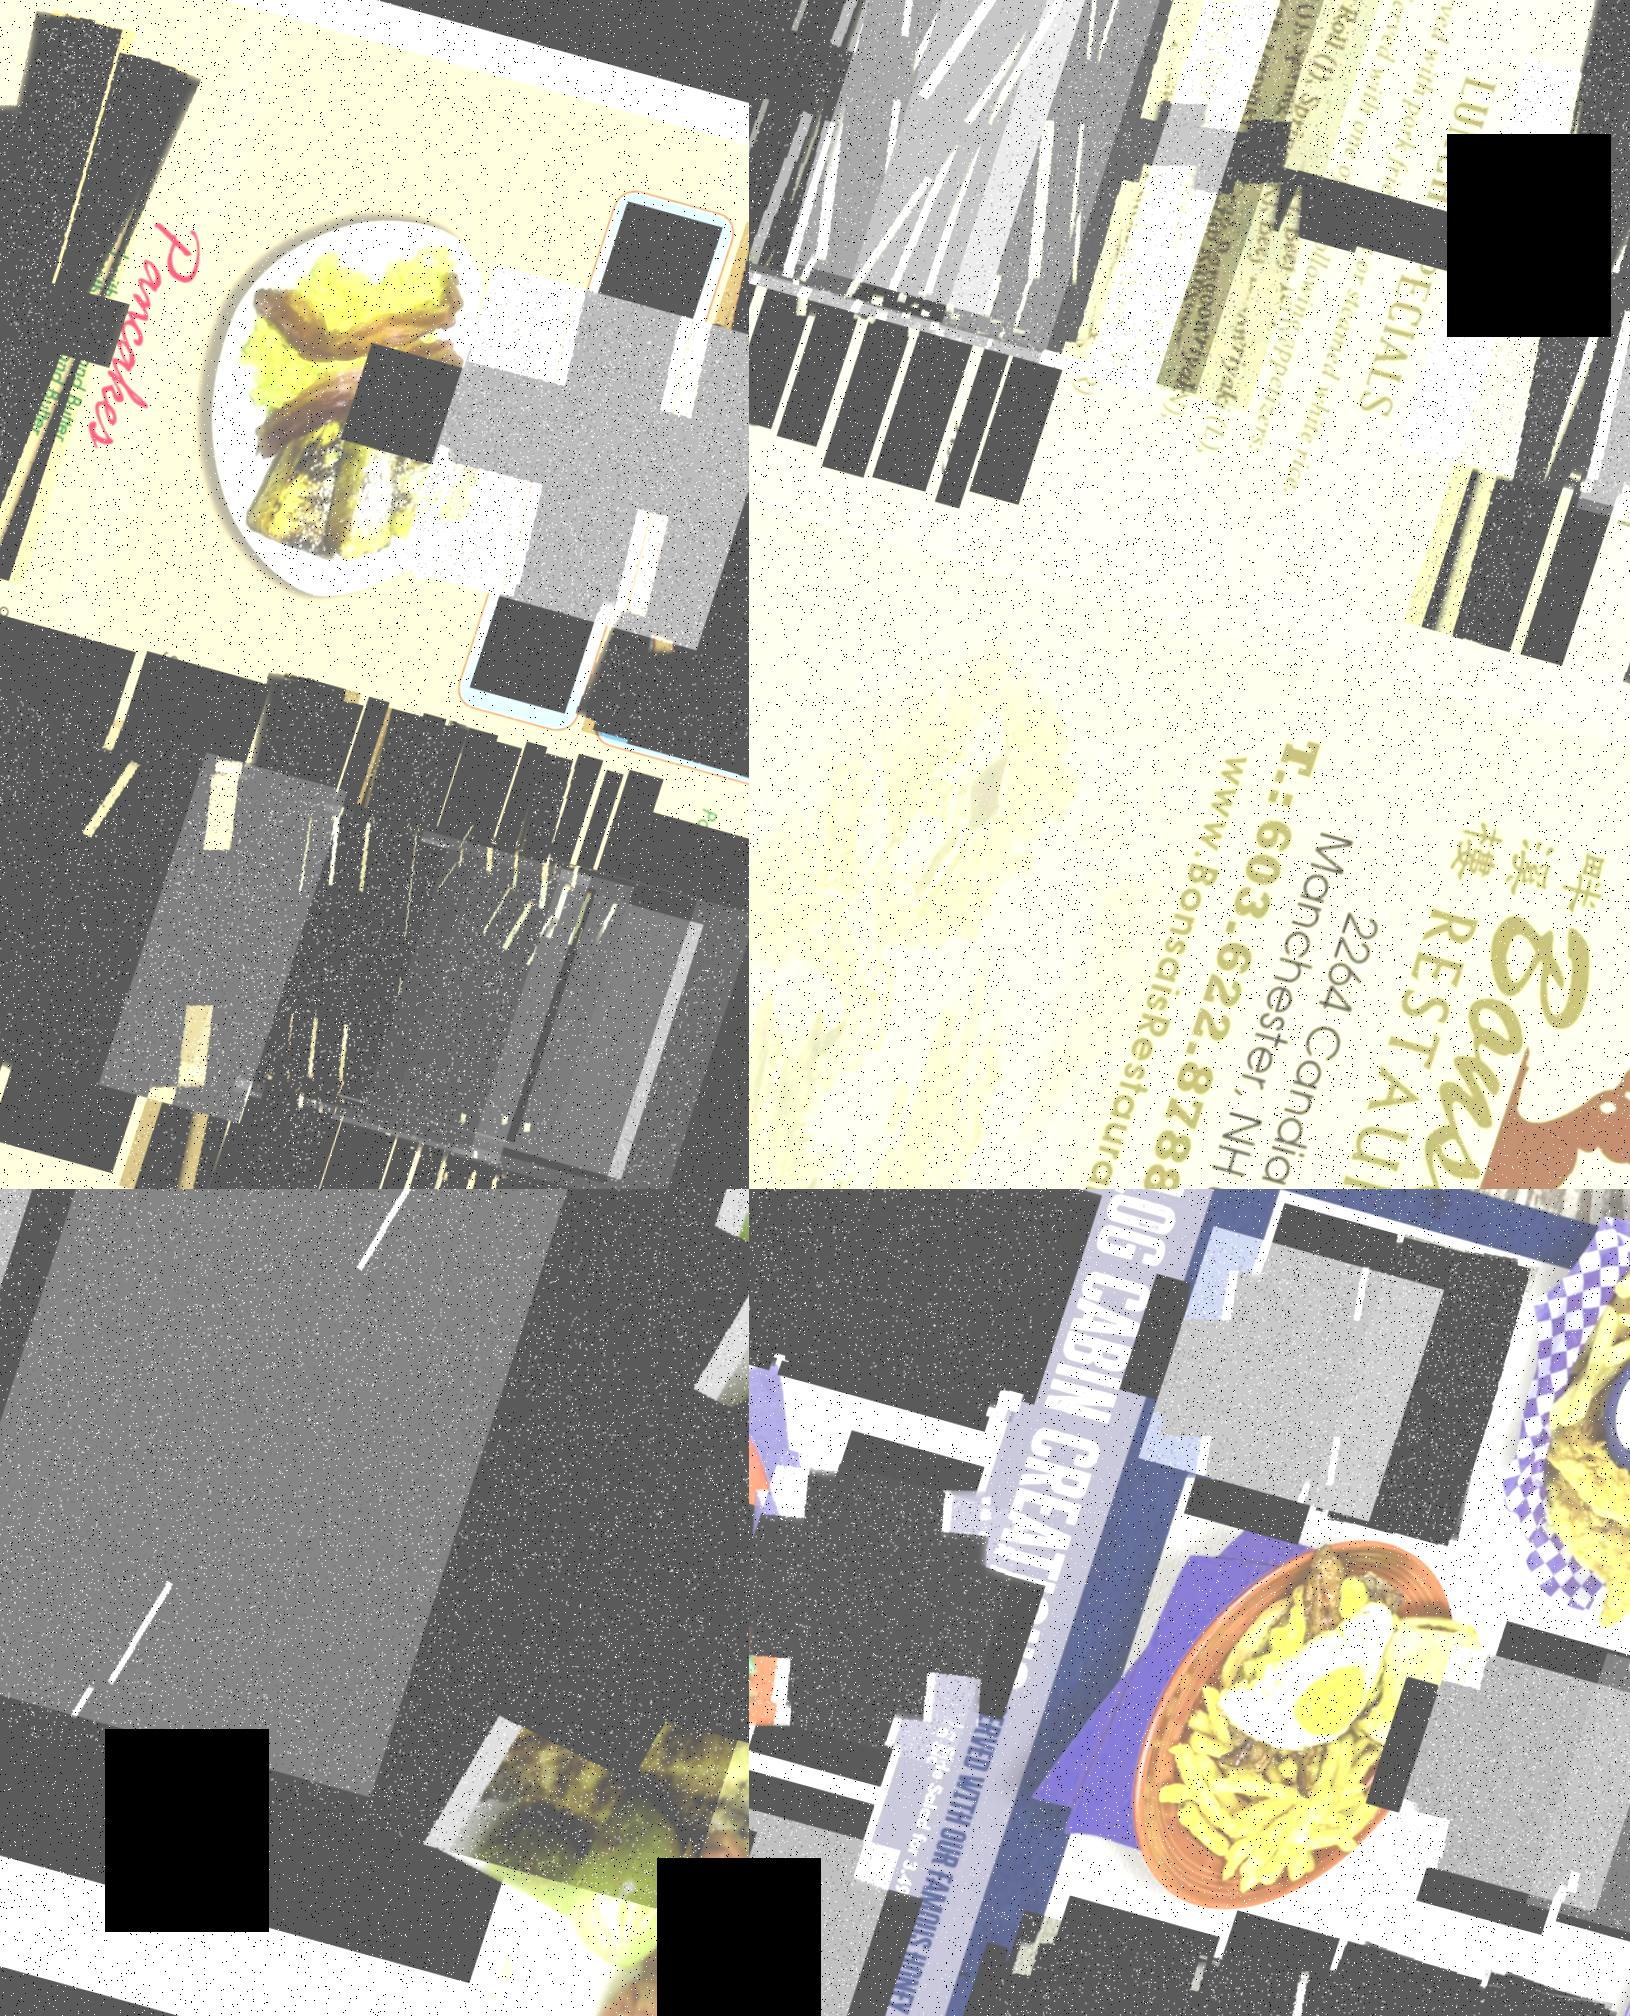Menu-Items: (0, 1189, 748, 1913), (0, 1189, 607, 1796), (837, 0, 1394, 408), (748, 0, 1297, 393), (808, 0, 1336, 391), (748, 0, 1226, 359), (0, 697, 369, 1121), (748, 0, 1188, 351), (233, 793, 614, 1161), (1415, 0, 1630, 642), (206, 785, 585, 1148), (343, 817, 720, 1179), (406, 258, 748, 645), (389, 828, 748, 1189), (136, 765, 502, 1118), (141, 665, 378, 1189), (303, 808, 657, 1149), (116, 767, 471, 1108), (0, 1189, 190, 1826), (748, 0, 1113, 313), (386, 848, 727, 1176), (1405, 50, 1630, 547), (283, 815, 620, 1139), (1465, 0, 1630, 654), (748, 0, 1083, 321), (0, 42, 196, 586), (454, 847, 748, 1189), (0, 647, 230, 1085), (273, 702, 476, 1189), (748, 1444, 1048, 1768), (249, 700, 439, 1189), (1146, 1223, 1455, 1519), (594, 213, 748, 785), (0, 3, 141, 576), (414, 745, 595, 1189), (767, 1189, 1104, 1421), (1317, 1224, 1548, 1547), (748, 0, 983, 298), (748, 0, 910, 426), (1399, 1637, 1630, 1906), (0, 1189, 101, 1638), (748, 1790, 920, 2016), (970, 1906, 1271, 2016), (1539, 1647, 1630, 1953), (1108, 1928, 1410, 2016), (748, 1189, 868, 1371), (1262, 1931, 1512, 2016)
